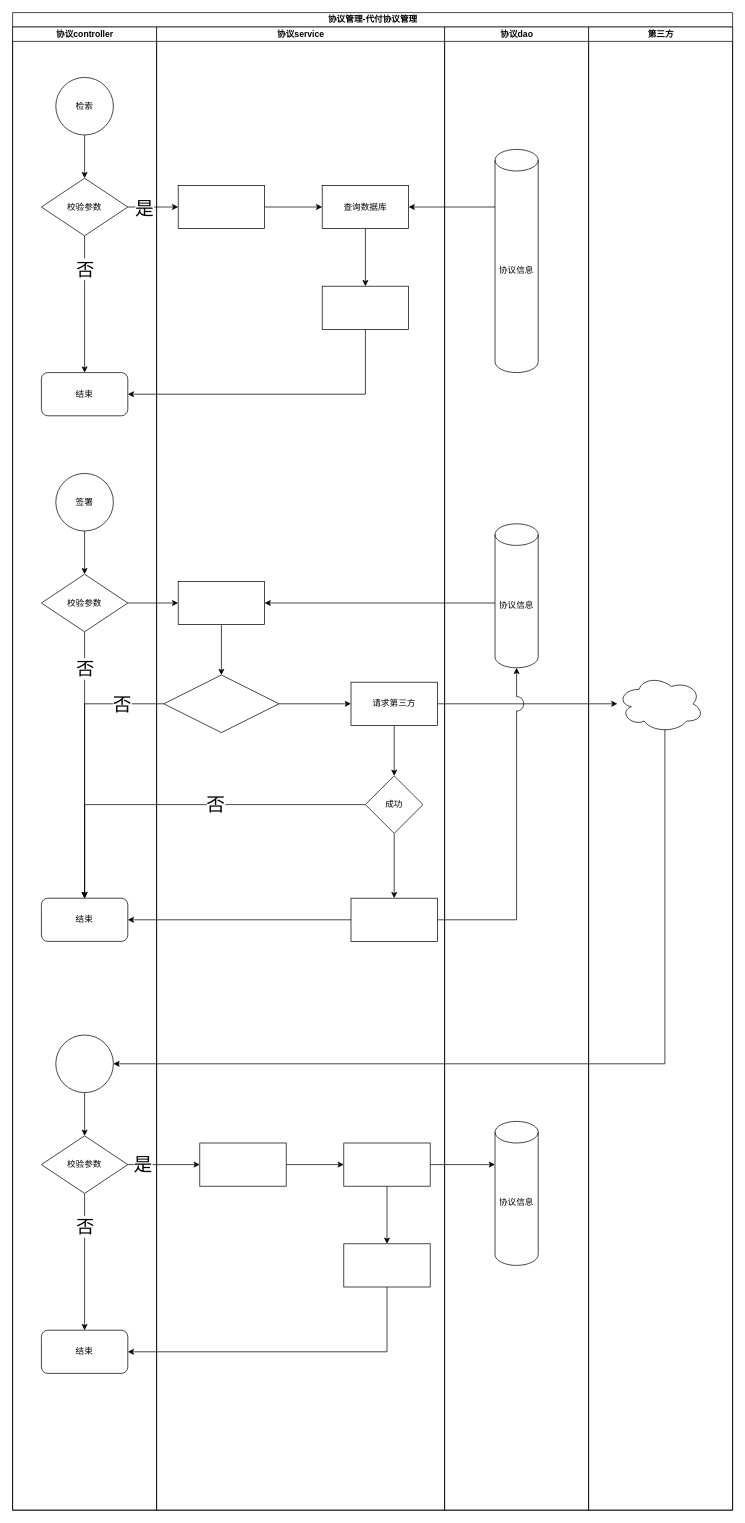
The diagram is 745 pixels wide and 1523 high, and some of its shapes have lost their labels. Each missing label, with the centre of its shape:
"信息完整" belongs at pixel 221 703.
"处理结果" belongs at pixel 365 307.
"外部系统" belongs at pixel 660 703.
"数据绑定" belongs at pixel 386 1164.
"数据转换" belongs at pixel 242 1164.
"新增协议" belongs at pixel 84 1063.
"更新协议" belongs at pixel 393 919.
"结果转换" belongs at pixel 386 1265.
"获取原始数据" belongs at pixel 221 603.
"解析参数" belongs at pixel 221 207.
